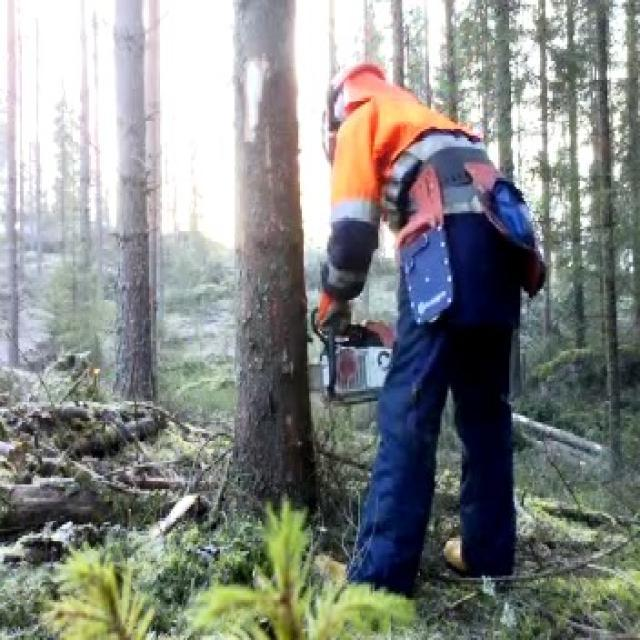Chainsaw: (274, 283, 423, 417)
